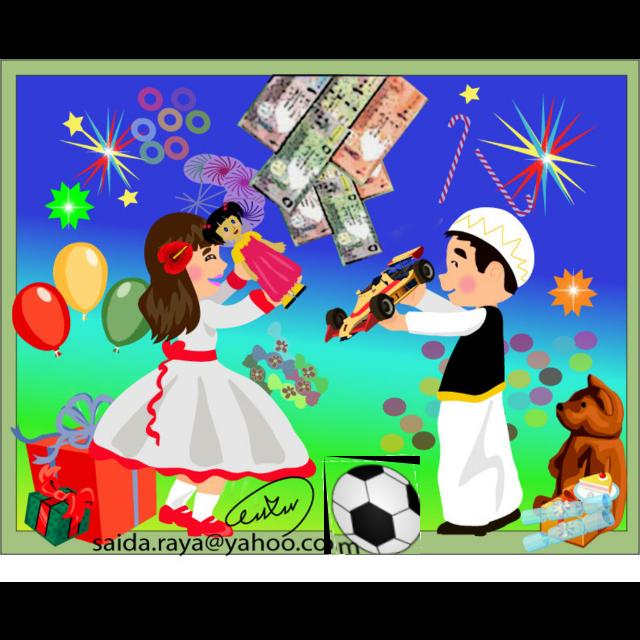Football: (324, 456, 420, 554)
